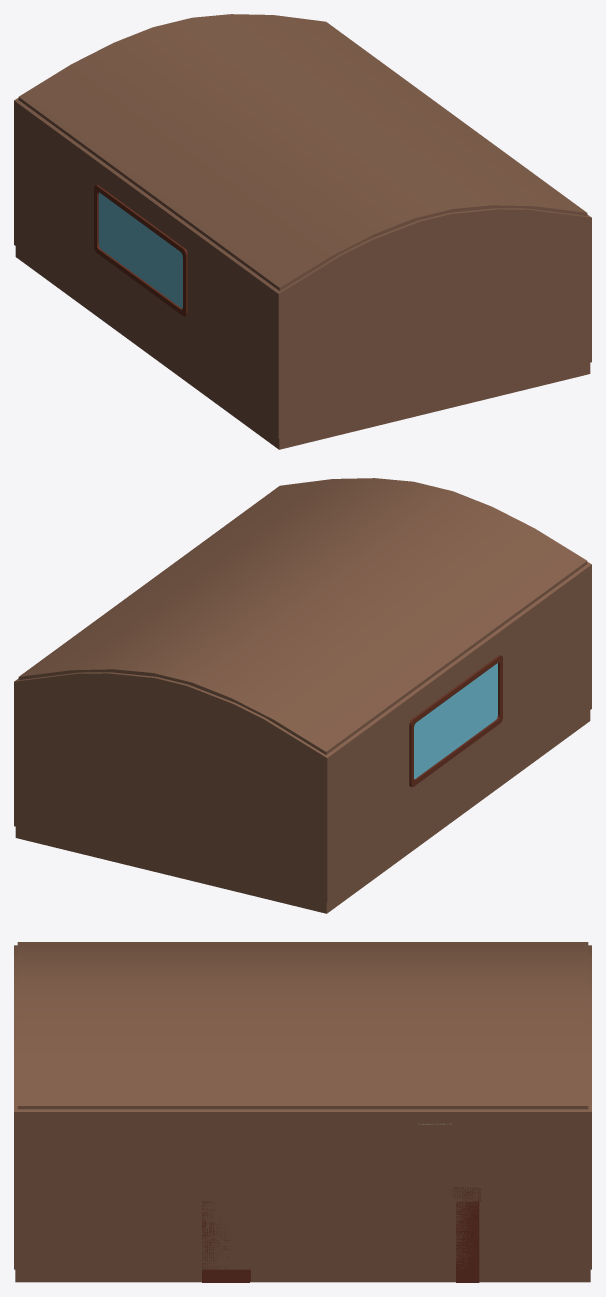
File: GreyBox_AlmostDone.fbx
3 views of the same model, one above another, from view 1: azimuth 30°, elevation 25°; view 2: azimuth 150°, elevation 25°; view 3: azimuth 270°, elevation 25° (orthographic). The views are drawn at different scales.
Visible parts, largest first — view 1: Vagon; view 2: Vagon; view 3: Vagon, MasterTable, StandForTitan.
Boxes of the visible parts, x1,y1,x2,y2 form: Vagon: (14, 14, 591, 449); Vagon: (14, 478, 591, 913); Vagon: (14, 942, 591, 1282); MasterTable: (452, 1187, 481, 1282); StandForTitan: (202, 1201, 250, 1282).
Size of the model in its own units: 412 by 247 by 600.
